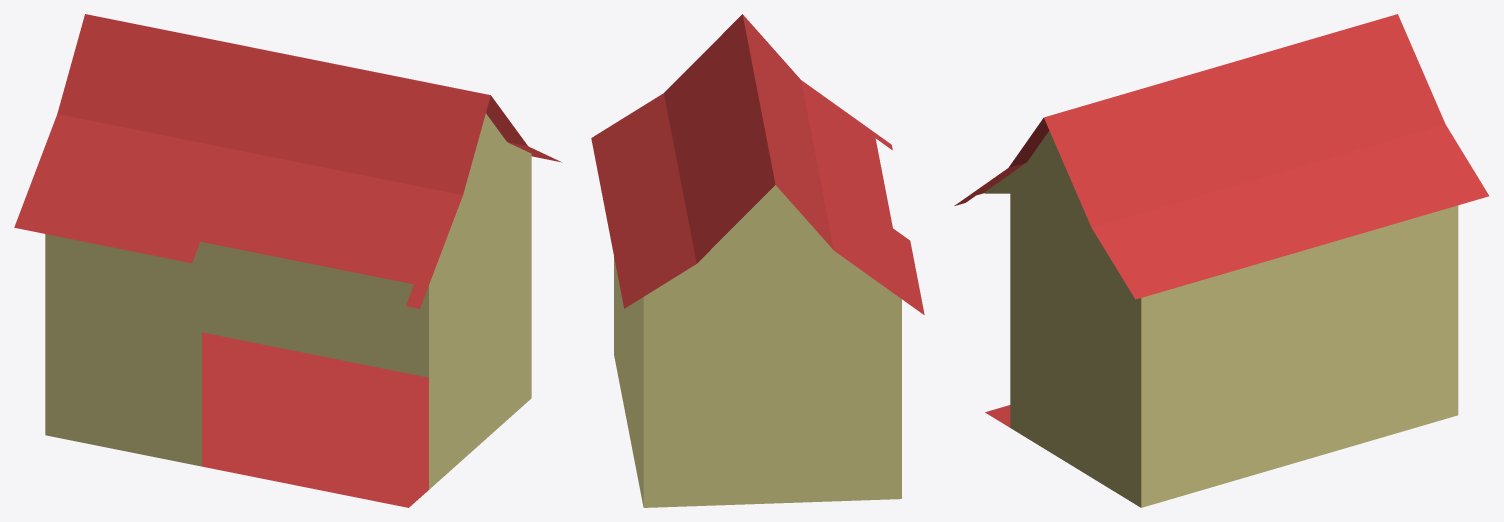
3 views of the same model, side by side, from view 1: azimuth 30°, elevation 25°; view 2: azimuth 150°, elevation 25°; view 3: azimuth 270°, elevation 25° (orthographic). The views are drawn at different scales.
Size of the model in its own units: 16.95 by 17.89 by 12.8.
